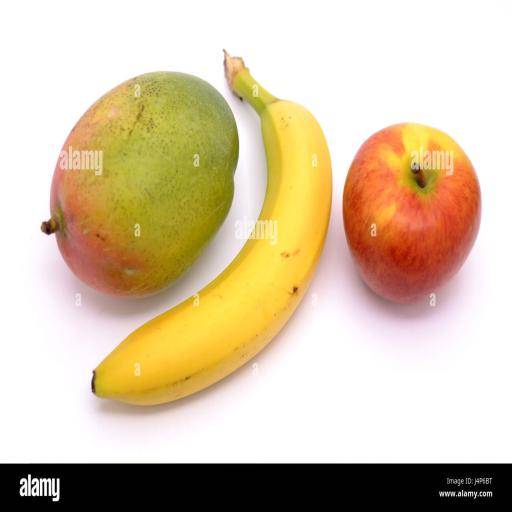apple: (343, 124, 481, 303)
banana: (93, 54, 332, 404)
mango: (42, 72, 238, 297)
